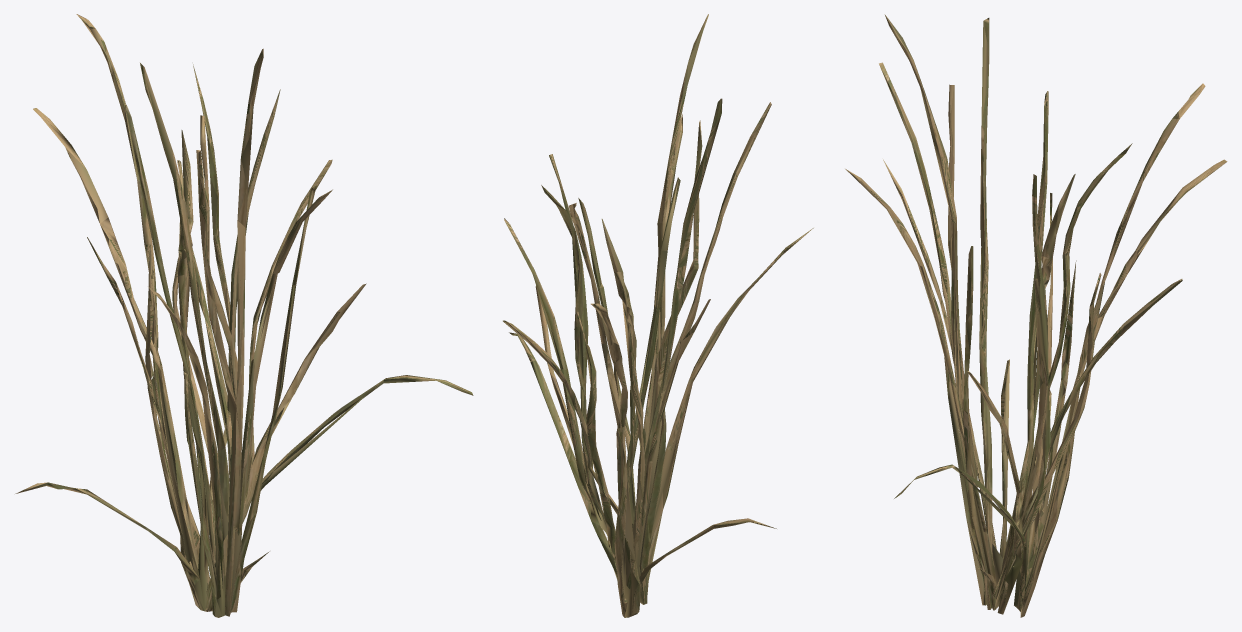
File: junco_adorno.glb
The picture shows the model from 3 angles, left to right: view 1: azimuth 30°, elevation 25°; view 2: azimuth 150°, elevation 25°; view 3: azimuth 270°, elevation 25°; orthographic projection. The views are drawn at different scales.
Visible parts, largest first — view 1: cerca, medio, lejos; view 2: cerca, medio, lejos; view 3: cerca, medio, lejos.
Boxes of the visible parts, box(x1,y1,x2,y2) form: cerca: box(15, 14, 473, 617); medio: box(46, 21, 382, 616); lejos: box(120, 106, 365, 614); cerca: box(503, 14, 813, 617); medio: box(520, 34, 756, 611); lejos: box(553, 302, 693, 617); cerca: box(845, 14, 1227, 617); medio: box(877, 22, 1195, 614); lejos: box(920, 88, 1164, 601).
Size of the model in its own units: 0.5098 by 0.7988 by 0.4678.
Materials: 2 (1 with a texture image).
